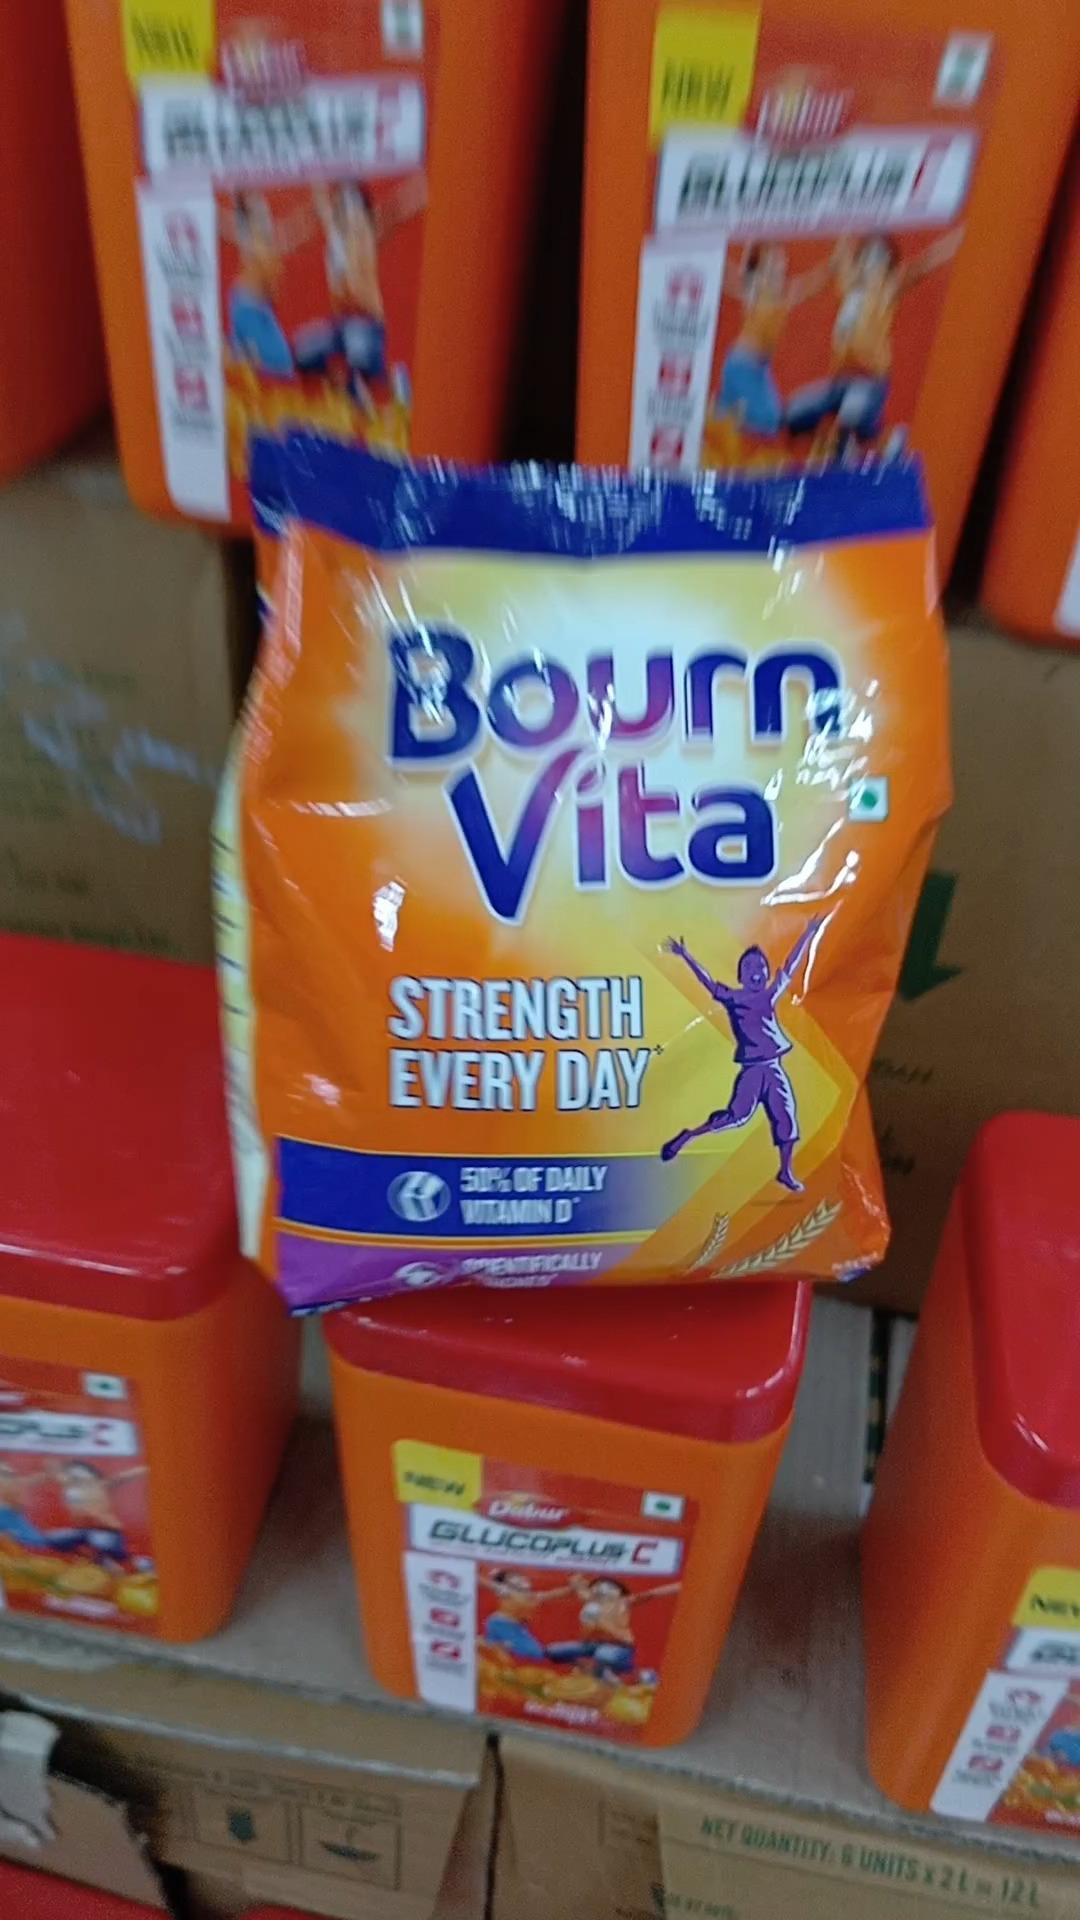BOURN_VITA_500_G_POUCH: (210, 410, 893, 1296)
